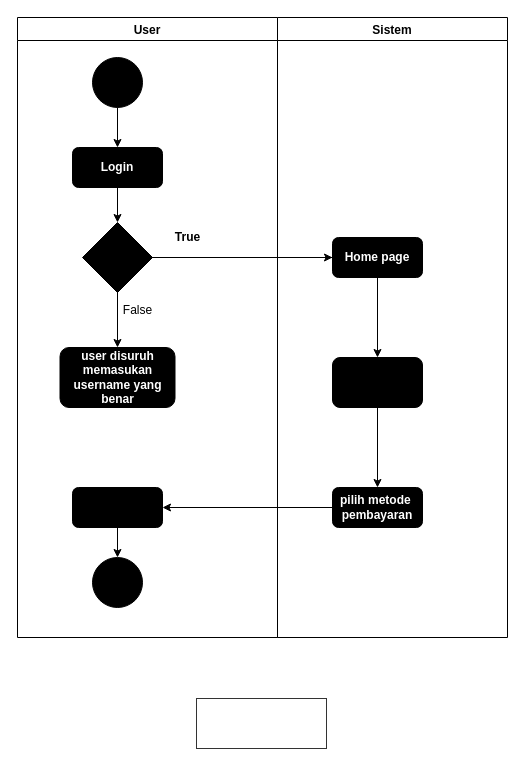
This 525x766 diagram has some shape labels left out. Here are the shapes that lost their labels. From the top down, the centre of each, then its label:
At (377,382): "User memilih produk yg ingin dibeli".
At (117,507): "pembayaran selesai".
At (261,723): "menerima konfirmasi pembelian".
